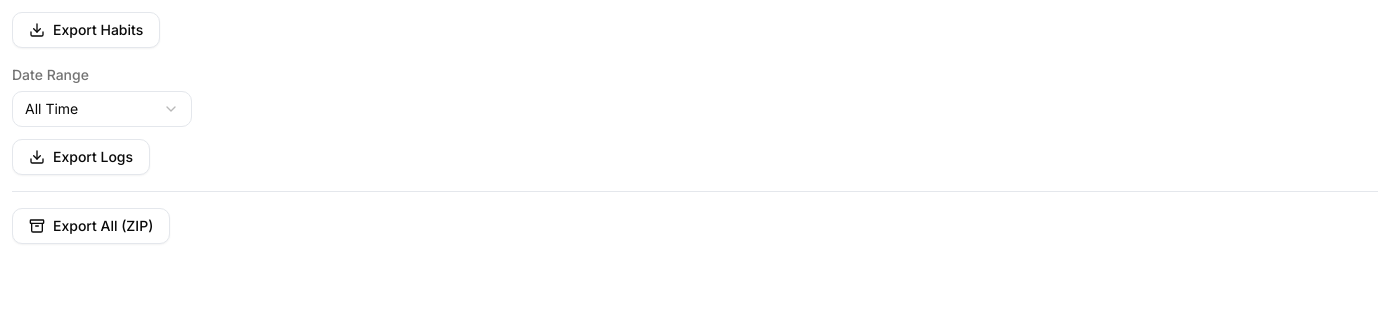
DataExport › custom date range › shows custom date inputs when Custom Range is selected
Click the dropdown. click: (102, 109)
box: x1=12 y1=91 x2=192 y2=127
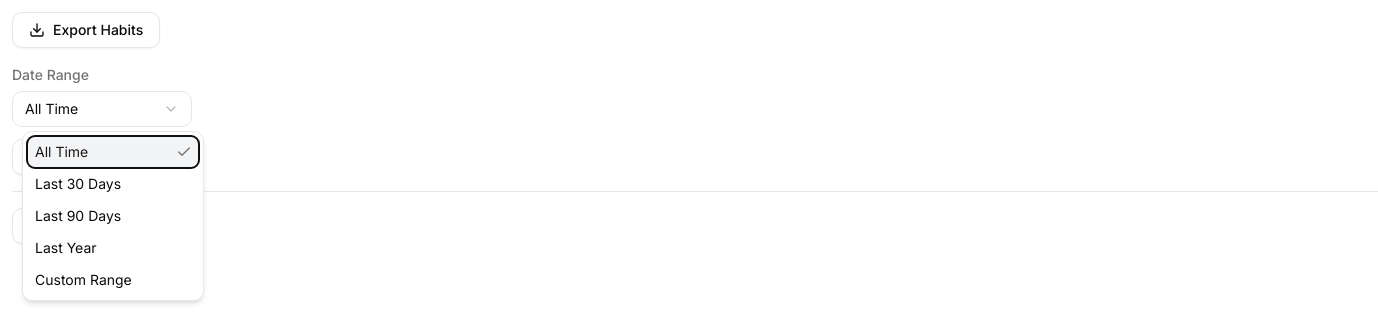
Click the option "Custom Range". click: (83, 280)
box: x1=35 y1=271 x2=132 y2=288
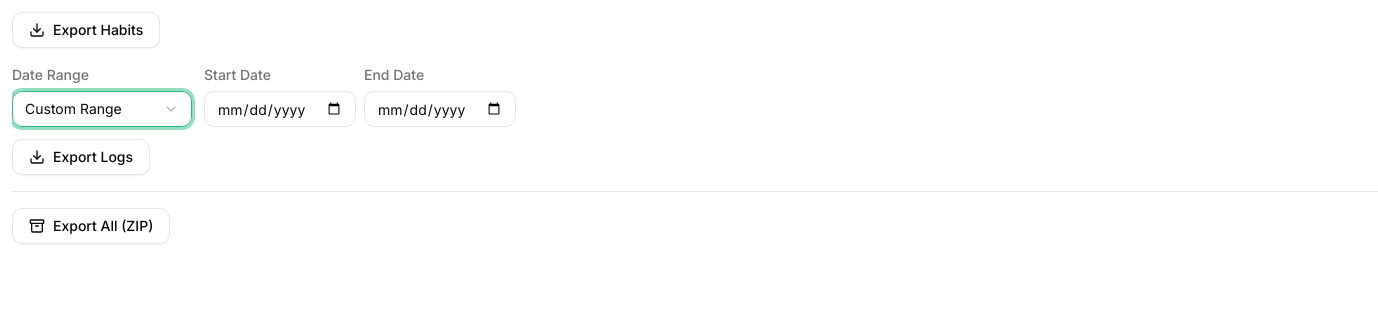
Result: the date field labelled "Start Date" is shown at x1=204 y1=91 x2=356 y2=127
Result: the date field labelled "End Date" is shown at x1=364 y1=91 x2=516 y2=127
